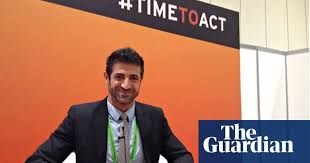middle_eastern_male: (105, 48, 149, 105)
